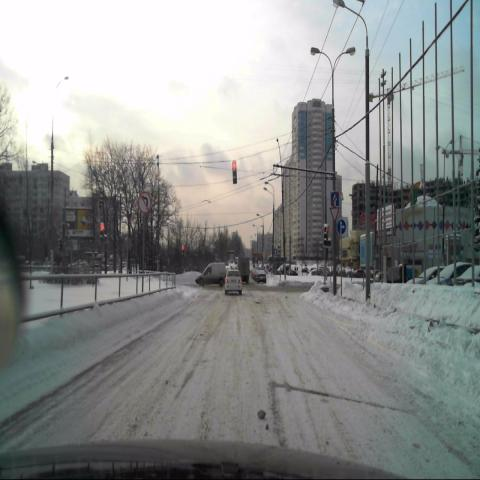2_4: (330, 206, 339, 223)
3_18_2: (138, 190, 152, 213)
4_1_4: (338, 218, 346, 235)
5_6: (330, 190, 339, 206)
